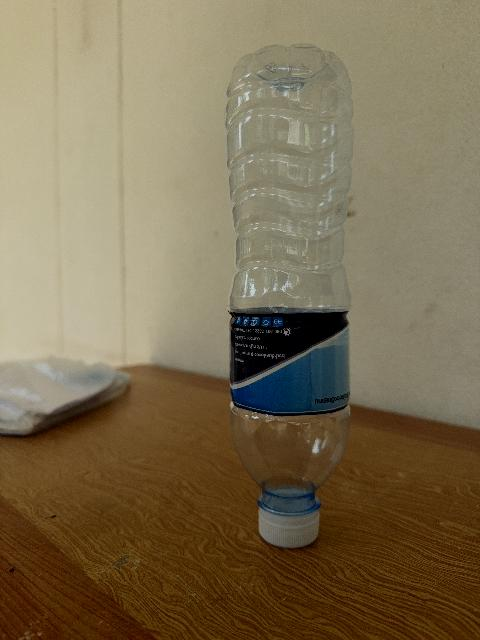bottle: (227, 45, 353, 547)
